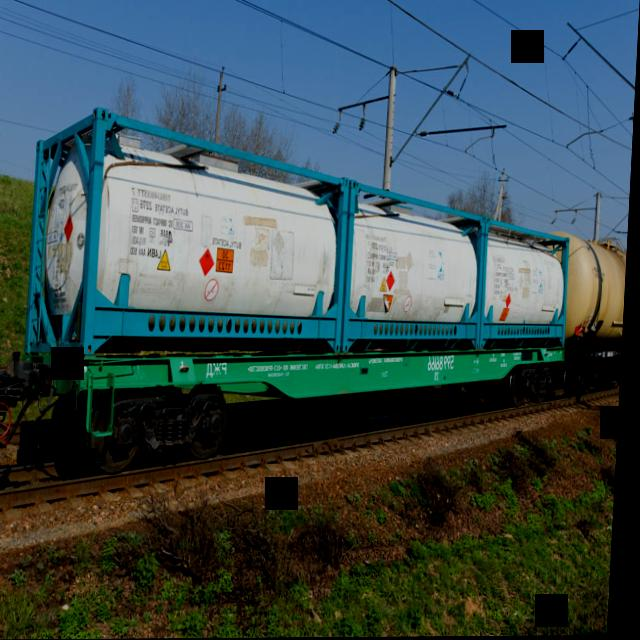flatcar: (28, 342, 572, 469)
tank: (23, 98, 354, 357), (344, 177, 489, 353), (482, 215, 577, 350), (563, 229, 631, 402)
